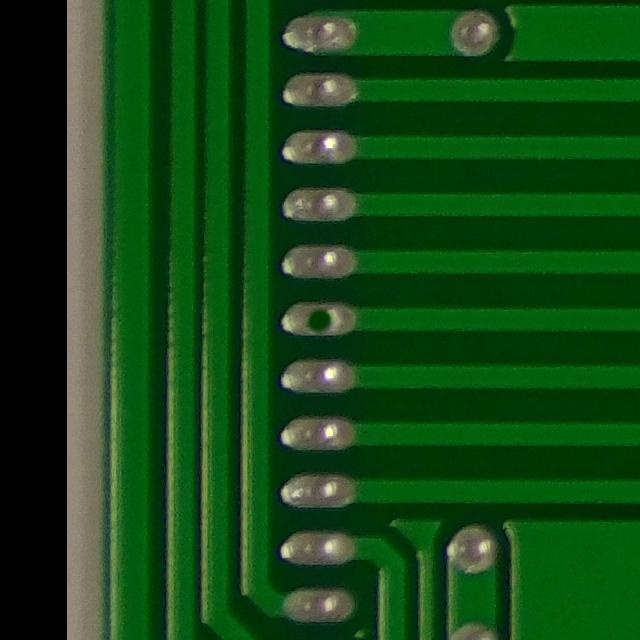missing_hole: (287, 289, 353, 350)
